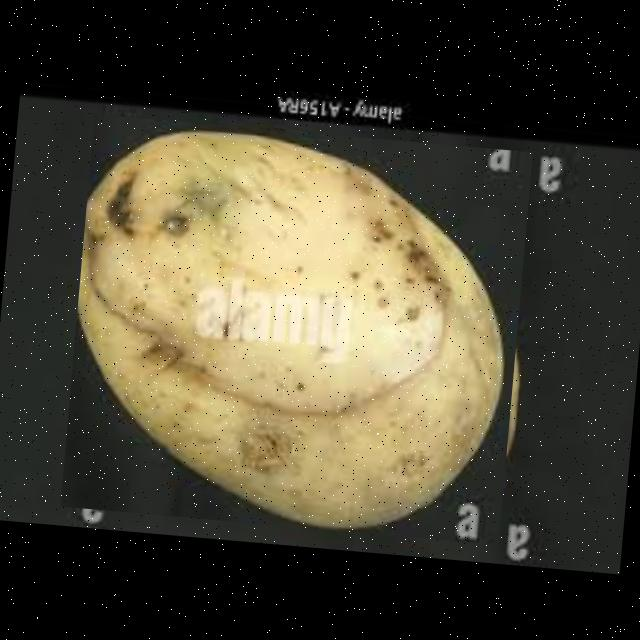Damaged potato: (59, 112, 532, 544)
